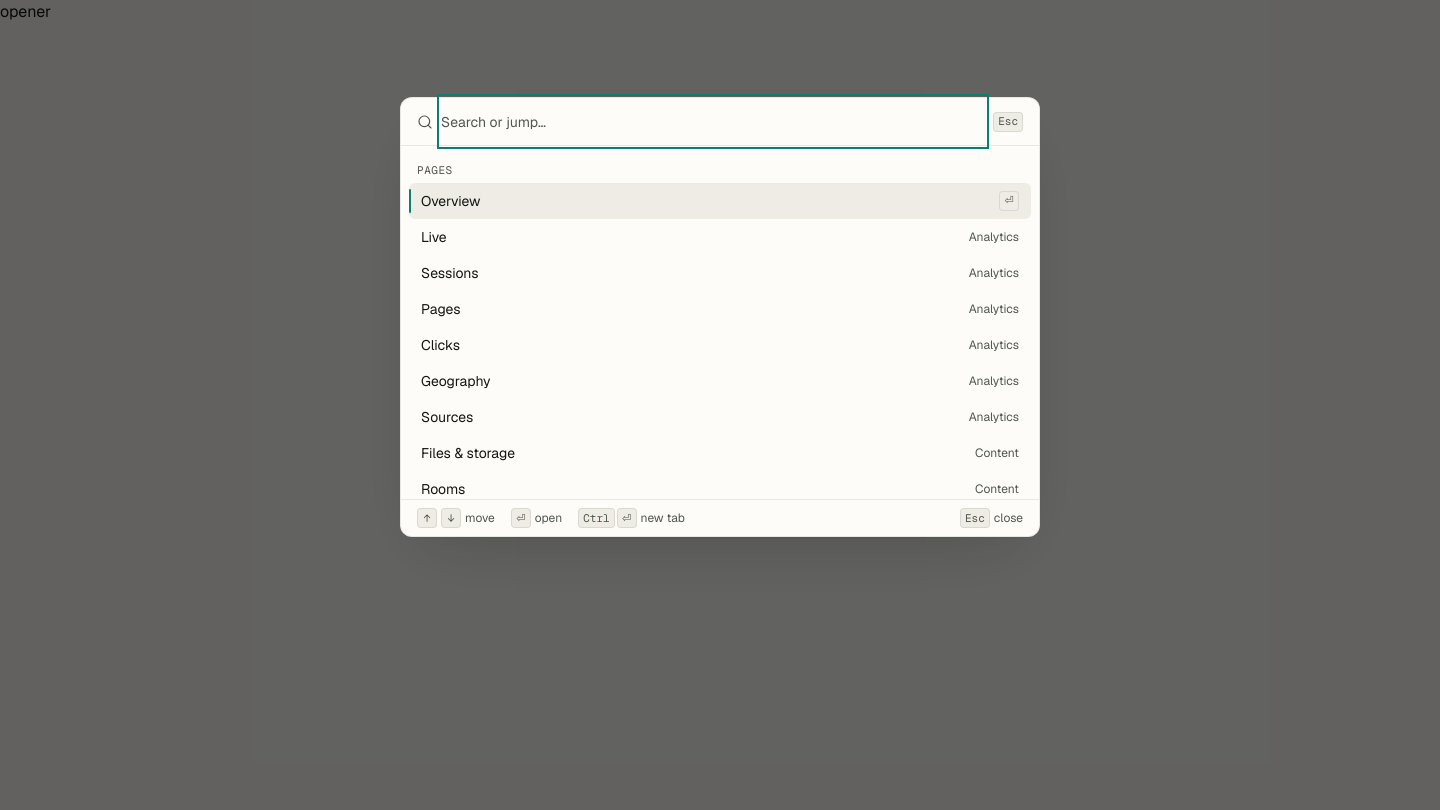
CommandPalette › server search: debounced 200 ms, groups shown after Pages, Enter jumps to the detail
Later steps or results of the test are not shown.
Type "203.0.113.7" into the dropdown. click: (713, 122)
box: [441,98,985,145]
Wait 250 ms
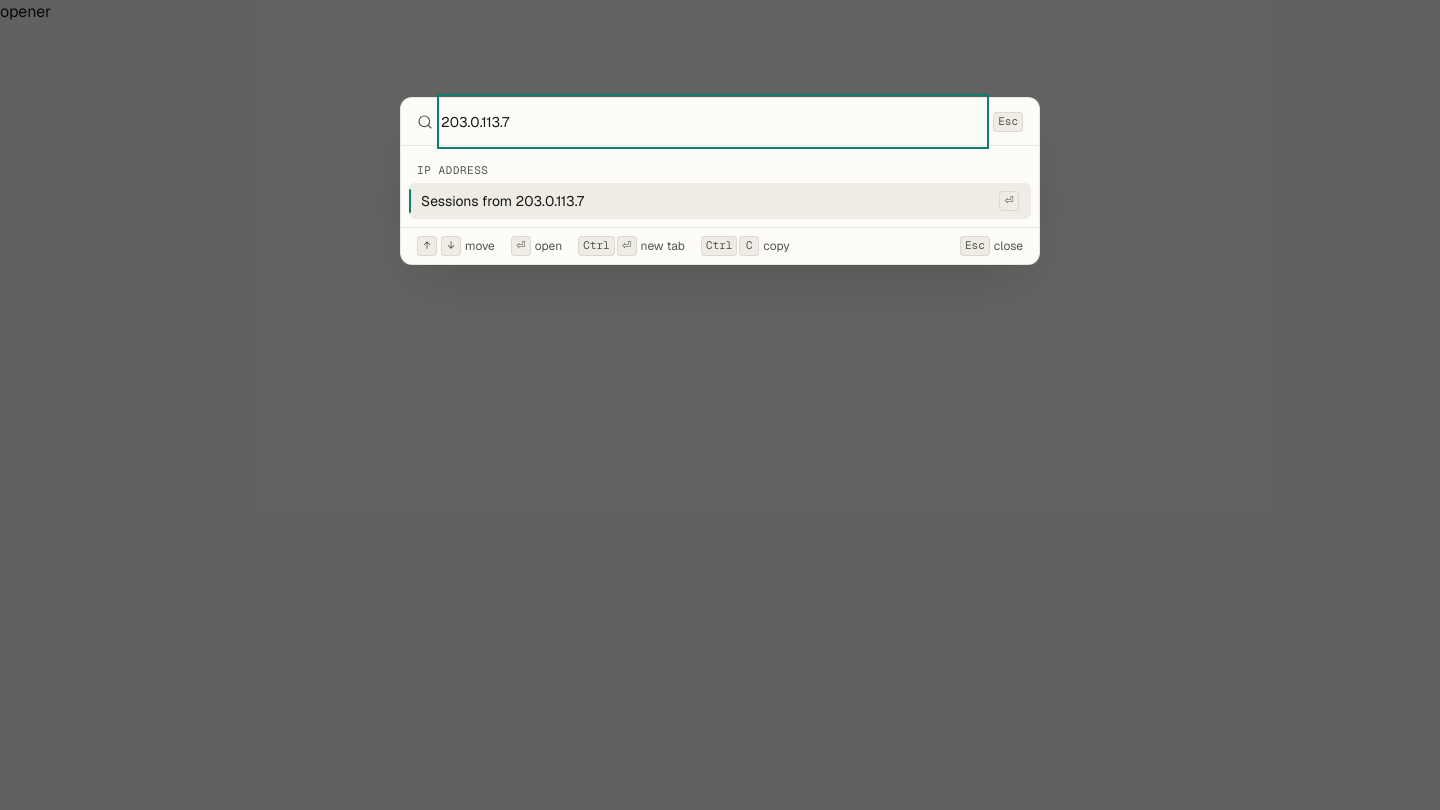
Now the element "IP address" is shown, box [409,154,1031,219]
